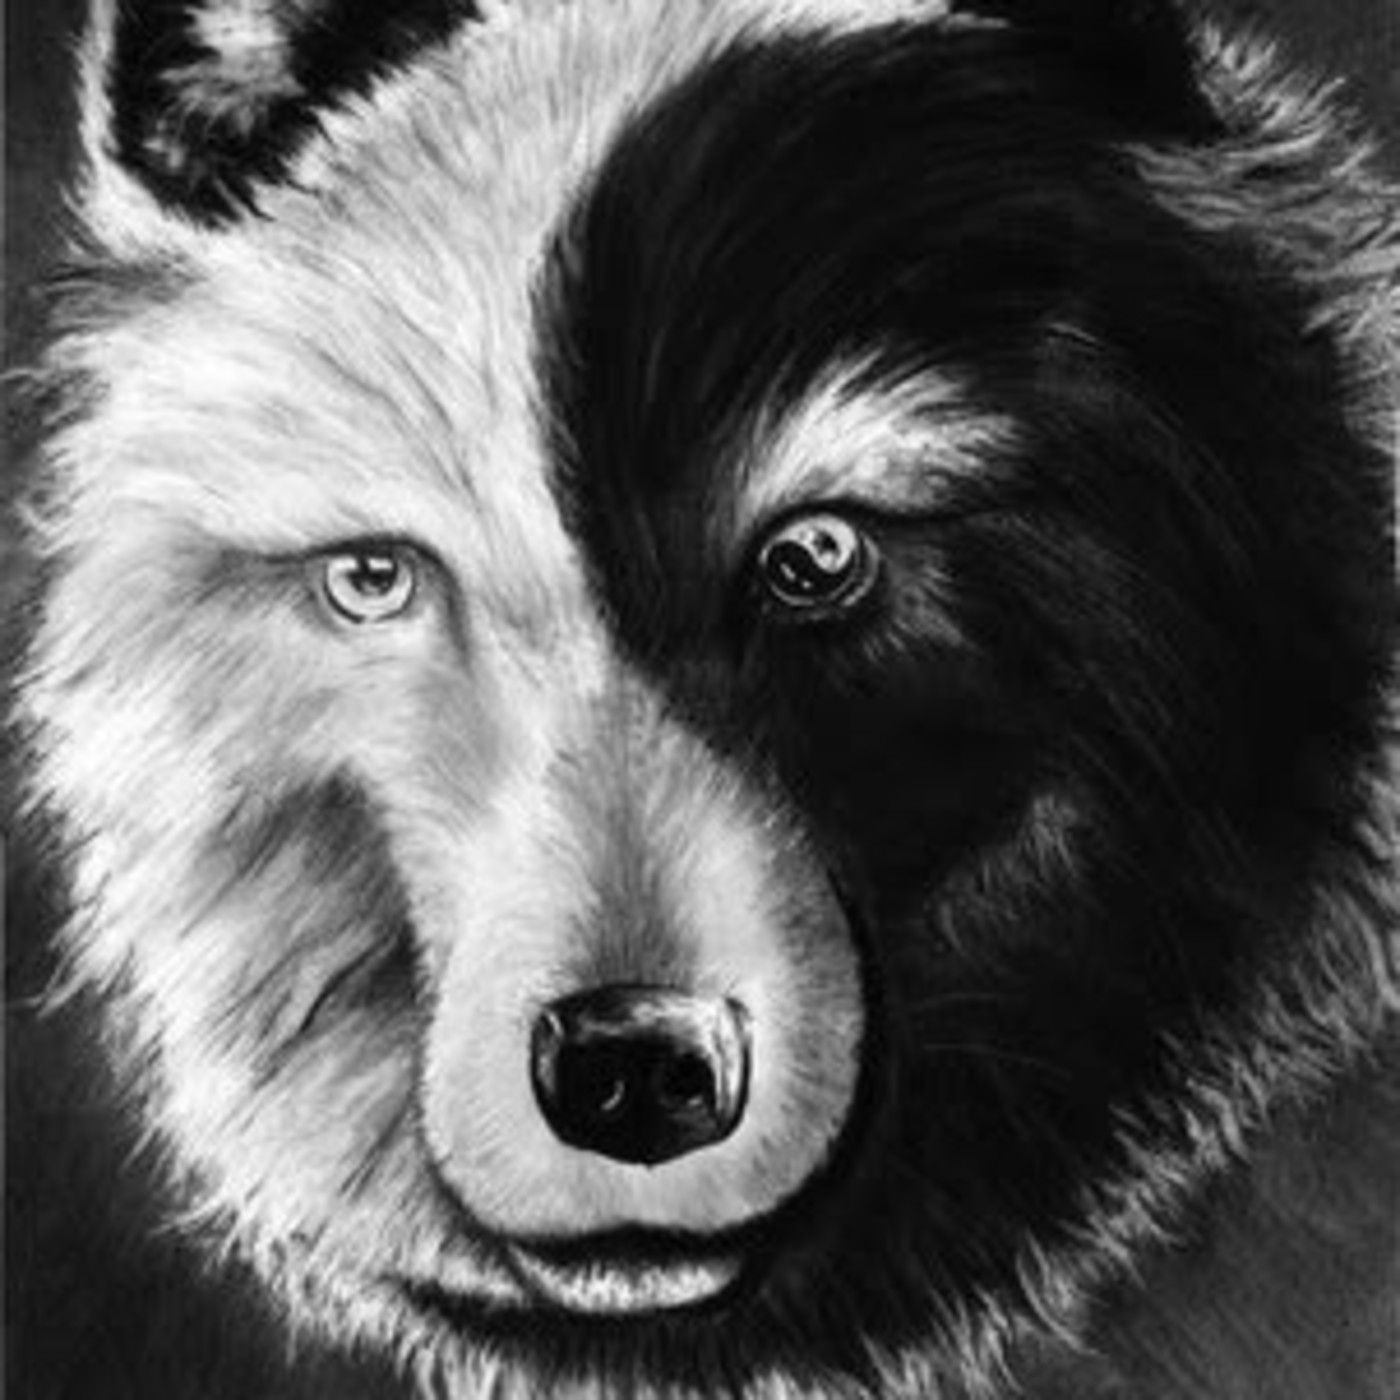Lobo: (26, 26, 1372, 1347)
